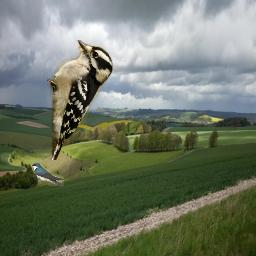Swallow: (31, 162, 64, 186)
Woodpecker: (47, 40, 113, 160)
